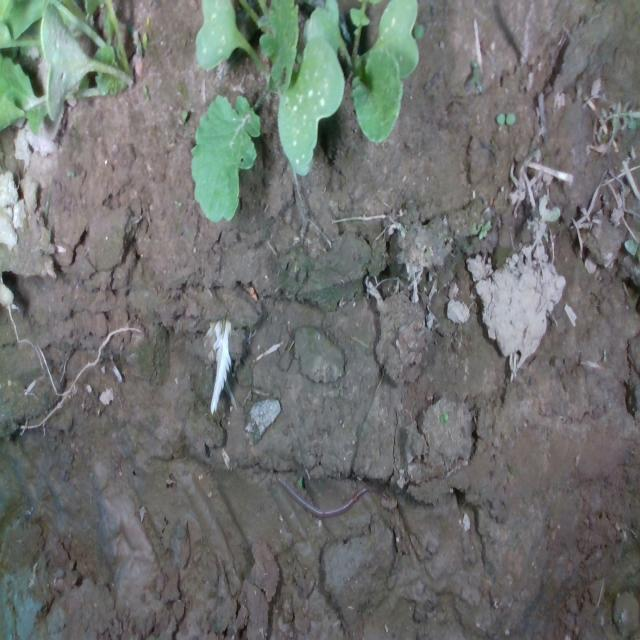weed: (495, 110, 515, 126), (142, 82, 150, 101)
